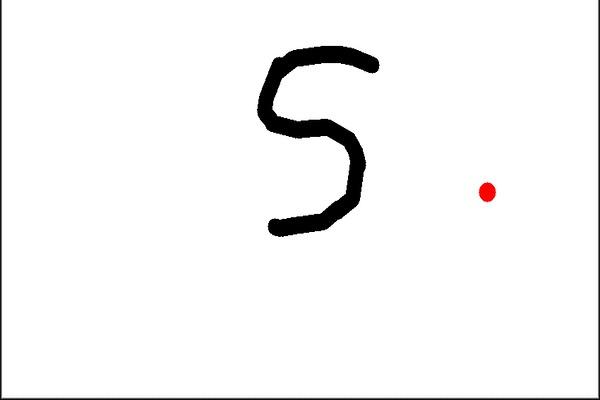S: (247, 40, 389, 237)
